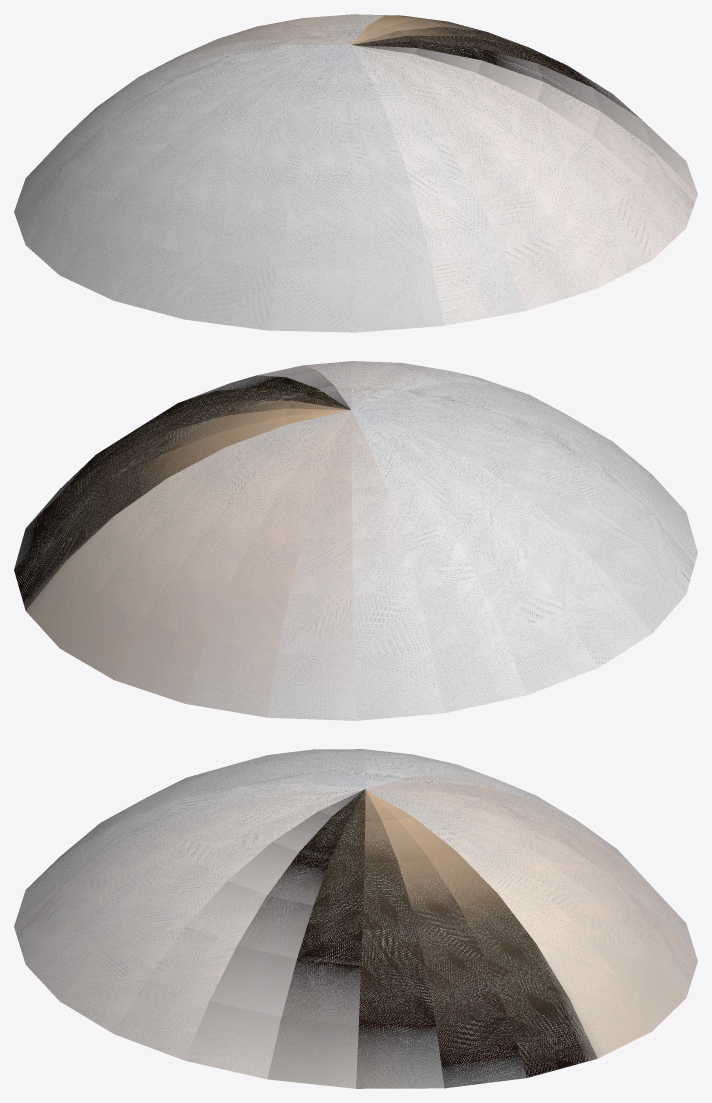
The model's file is original-87.obj.
3 renders of one model, top to bottom at view 1: azimuth 30°, elevation 25°; view 2: azimuth 150°, elevation 25°; view 3: azimuth 270°, elevation 25°, orthographic.
Visible parts, largest first — view 1: Wooden_Plug11/Wooden_Plug/mesh1/mesh1-geometry#mesh1-geometry; view 2: Wooden_Plug11/Wooden_Plug/mesh1/mesh1-geometry#mesh1-geometry; view 3: Wooden_Plug11/Wooden_Plug/mesh1/mesh1-geometry#mesh1-geometry.
Part boxes in pixels (box(x1,y1,x2,y2)): Wooden_Plug11/Wooden_Plug/mesh1/mesh1-geometry#mesh1-geometry: box(14, 14, 697, 332); Wooden_Plug11/Wooden_Plug/mesh1/mesh1-geometry#mesh1-geometry: box(14, 361, 697, 720); Wooden_Plug11/Wooden_Plug/mesh1/mesh1-geometry#mesh1-geometry: box(14, 749, 697, 1088).
Bounding box in the file's own units: 0.0221 × 0.00612 × 0.022.
